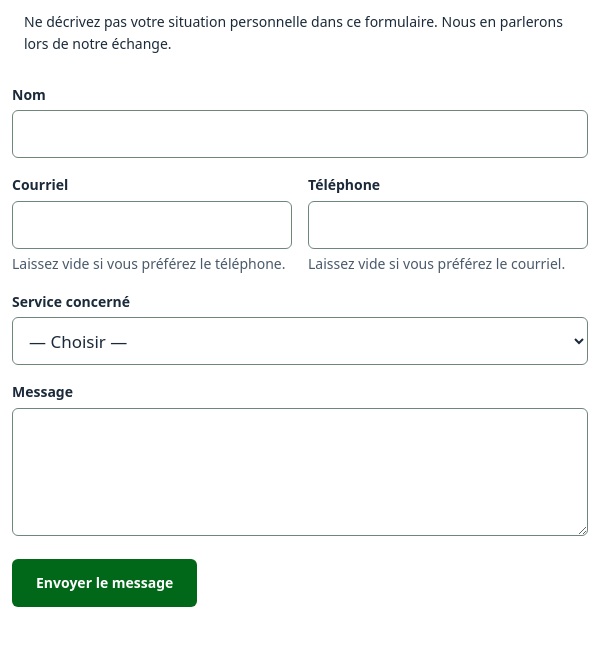
Scenario: ContactForm › exige au moins un courriel ou un téléphone
Type "Jean" into the field labelled "Nom" at (300,134), box [12,110,588,158]
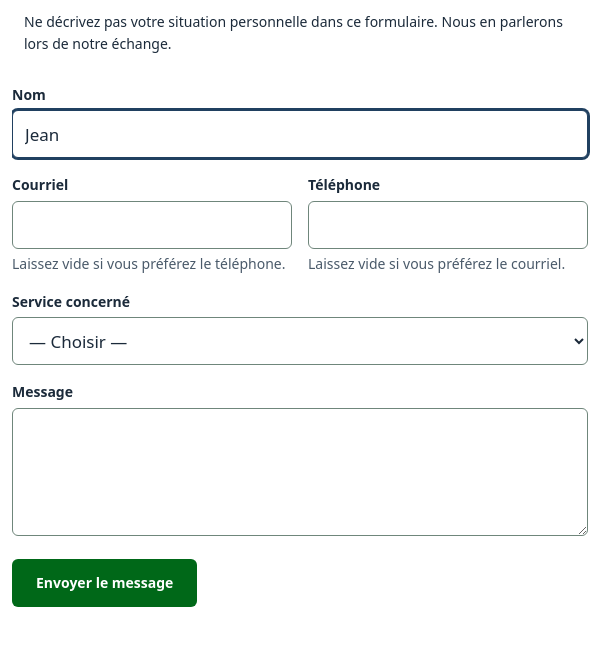
Type "Bonjour, je voudrais des informations." into the text box labelled "Message" at (300,472), box [12,408,588,536]
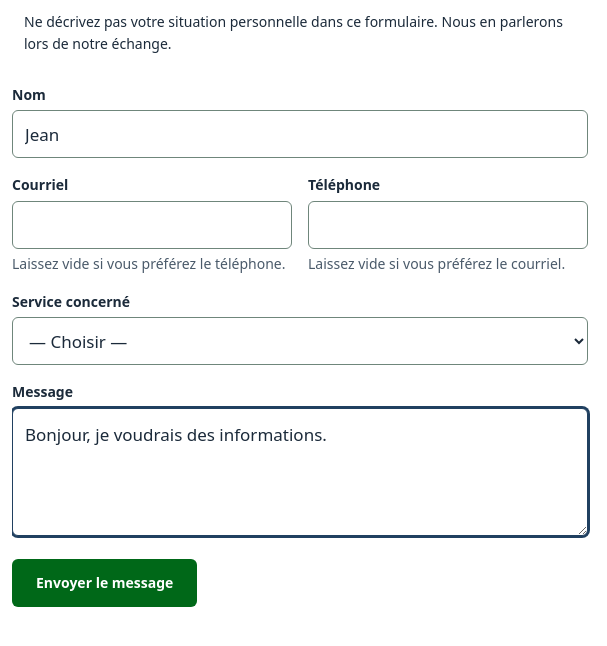
Click the button "Envoyer le message" at (105,583), box [12,559,197,607]
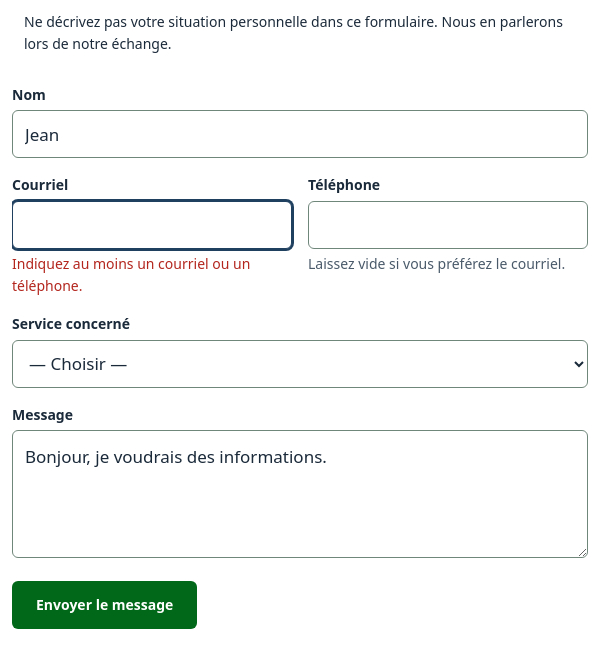
Now the text "Indiquez au moins un courriel ou un téléphone." is shown, box [12,253,292,297]
